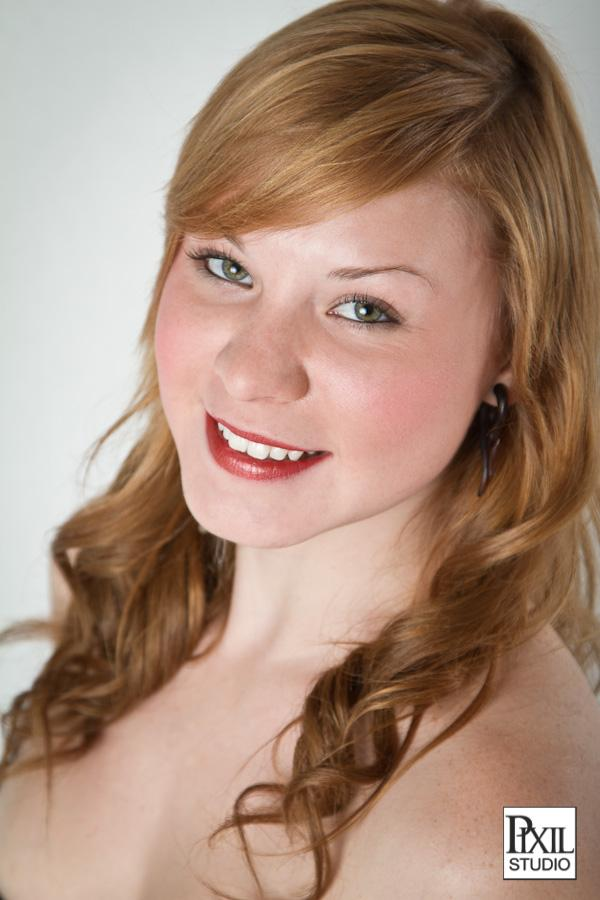Eyes: (321, 285, 405, 341), (186, 239, 259, 299)
